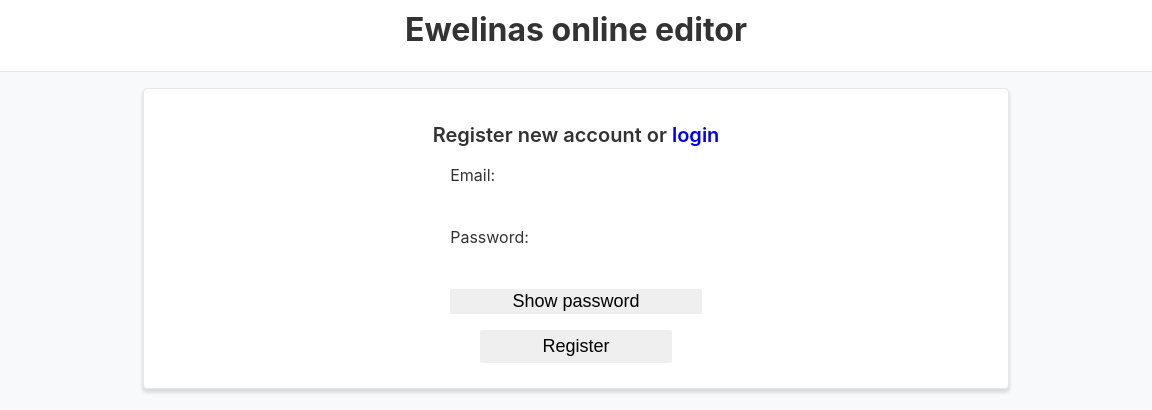
Scenario: clicking link "login" renders first page
The image size is (1152, 410).
Click the link "login" at point(696, 135), box left=672, top=123, right=719, bottom=147
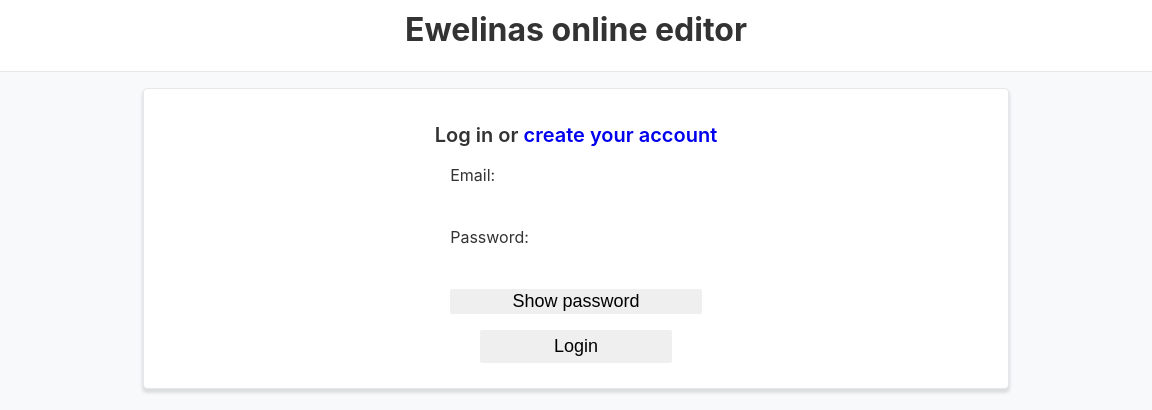
Now the button "Login" is shown, box left=480, top=330, right=672, bottom=363
